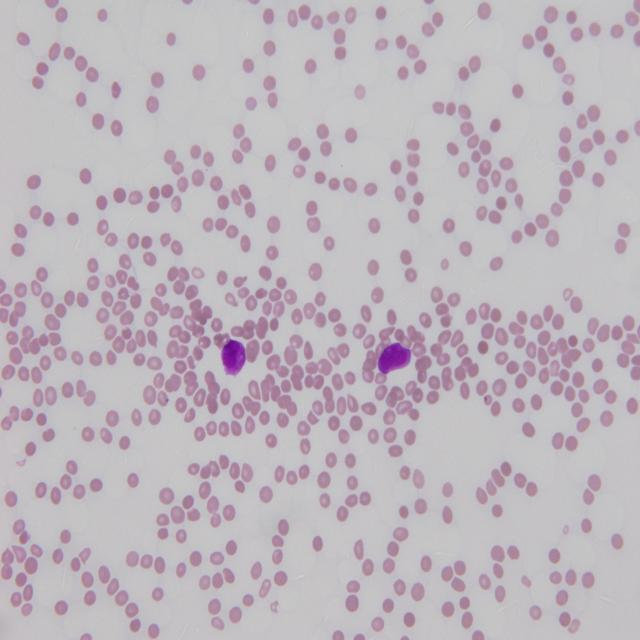cell: (378, 343, 411, 375), (221, 339, 246, 376)
